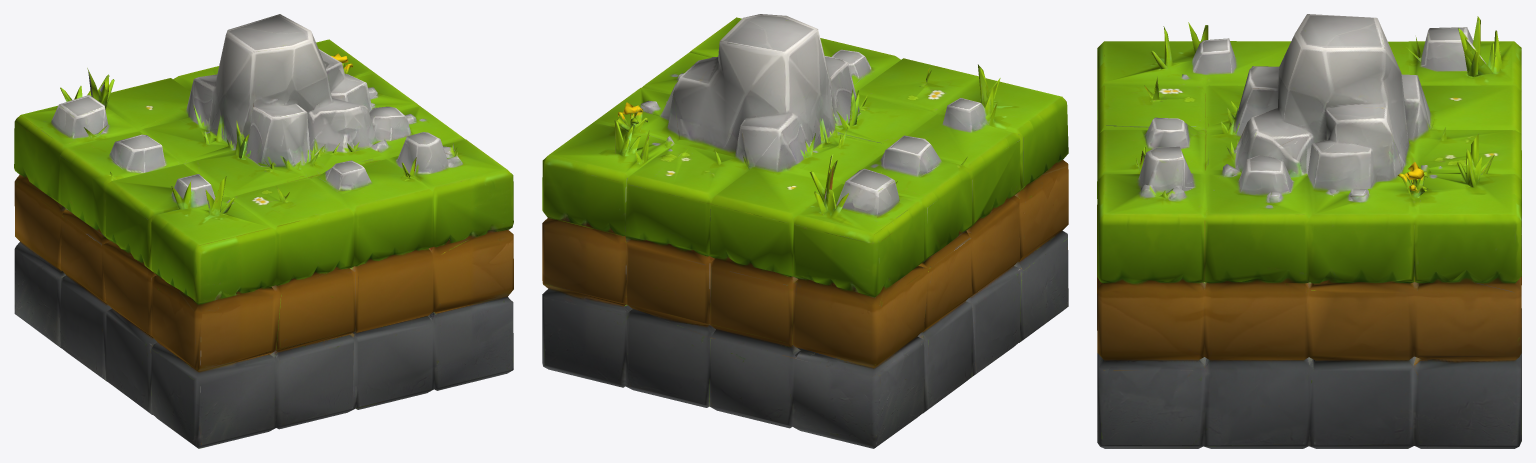
Rendered from Meshy_AI_Ruinforged_0518052935_texture.fbx.
The picture shows the model from 3 angles, left to right: view 1: azimuth 30°, elevation 25°; view 2: azimuth 150°, elevation 25°; view 3: azimuth 270°, elevation 25°; orthographic projection. The views are drawn at different scales.
Parts seen in each view (by area): view 1: Mesh1.0; view 2: Mesh1.0; view 3: Mesh1.0.
Boxes of the visible parts, box(x1,y1,x2,y2) form: Mesh1.0: box(14, 14, 513, 448); Mesh1.0: box(542, 14, 1068, 448); Mesh1.0: box(1097, 14, 1521, 448).
Size of the model in its own units: 112 by 100 by 112.
Materials: 1 (1 with a texture image).
